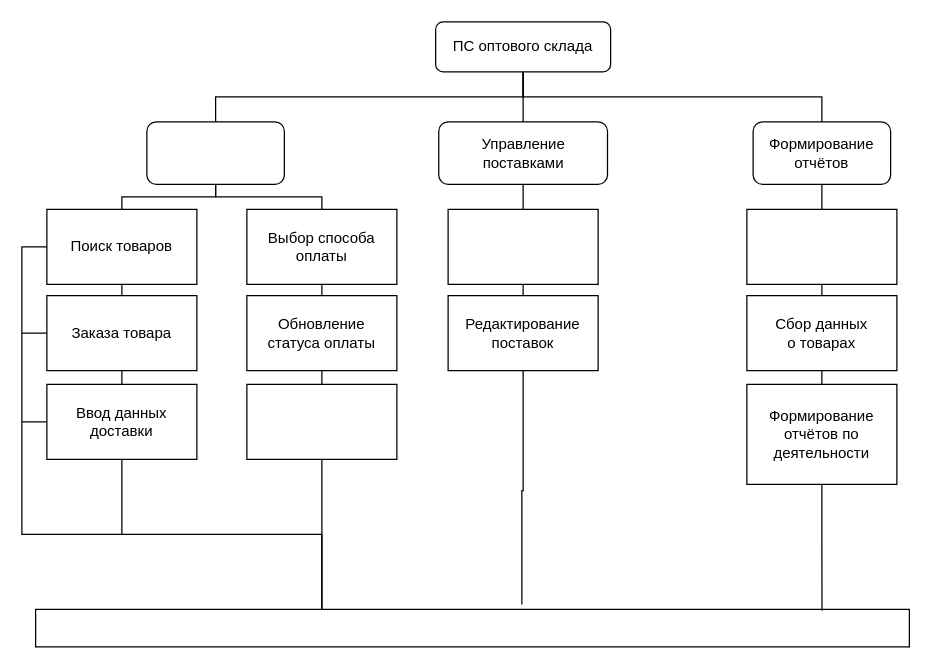
Some shapes in this 931 by 669 pixel diagram are drawn without their labels. The shapes that lost their labels are listed below. From the top down, each one's centre as x and y in pixels, then its label:
(x=215, y=152): Оптовая покупка товаров
(x=522, y=246): Добавление поставок
(x=821, y=246): Сбор данных о поставках
(x=321, y=421): Формирование заказа
(x=471, y=627): База данных
